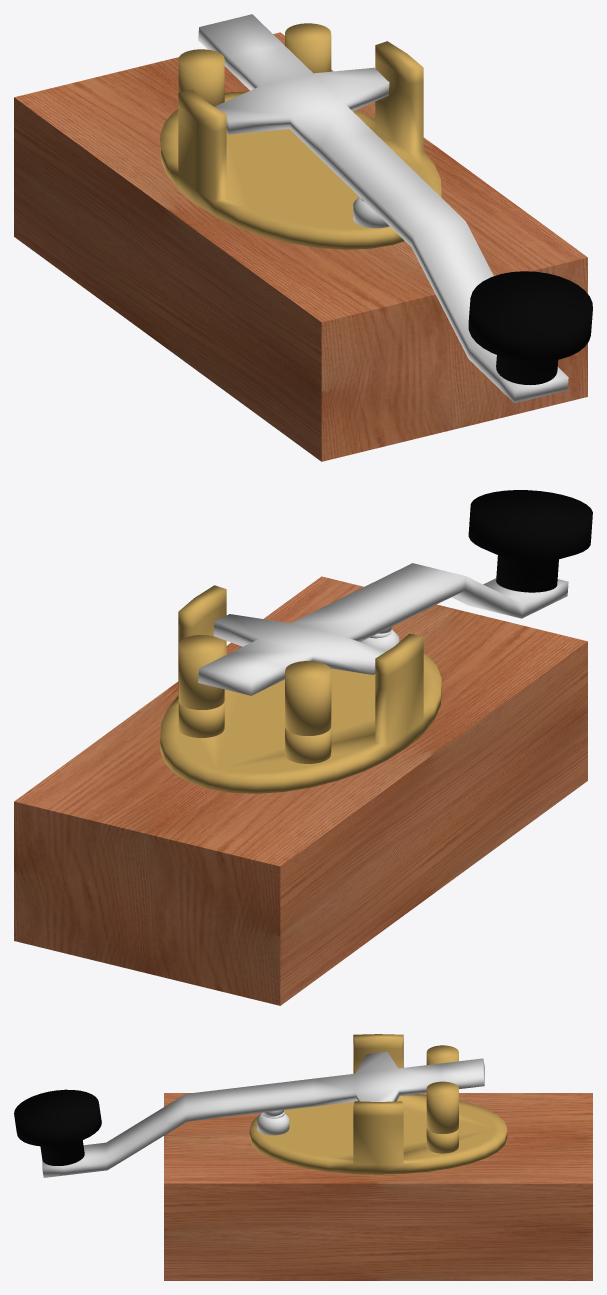
Rendered from SM_TelegraphKey_v00e17@CC3Second.fbx.
3 renders of one model, top to bottom at view 1: azimuth 30°, elevation 25°; view 2: azimuth 150°, elevation 25°; view 3: azimuth 270°, elevation 25°, orthographic. The views are drawn at different scales.
Parts seen in each view (by area): view 1: TelegraphBaseParts, TelegraphKeyArm; view 2: TelegraphBaseParts, TelegraphKeyArm; view 3: TelegraphBaseParts, TelegraphKeyArm.
Boxes of the visible parts, x1,y1,x2,y2 form: TelegraphBaseParts: [14, 23, 587, 461]; TelegraphKeyArm: [198, 14, 592, 403]; TelegraphBaseParts: [14, 576, 587, 1005]; TelegraphKeyArm: [198, 490, 592, 695]; TelegraphBaseParts: [164, 1034, 592, 1280]; TelegraphKeyArm: [14, 1051, 484, 1177].
Size of the model in its own units: 100 by 86.49 by 270.
